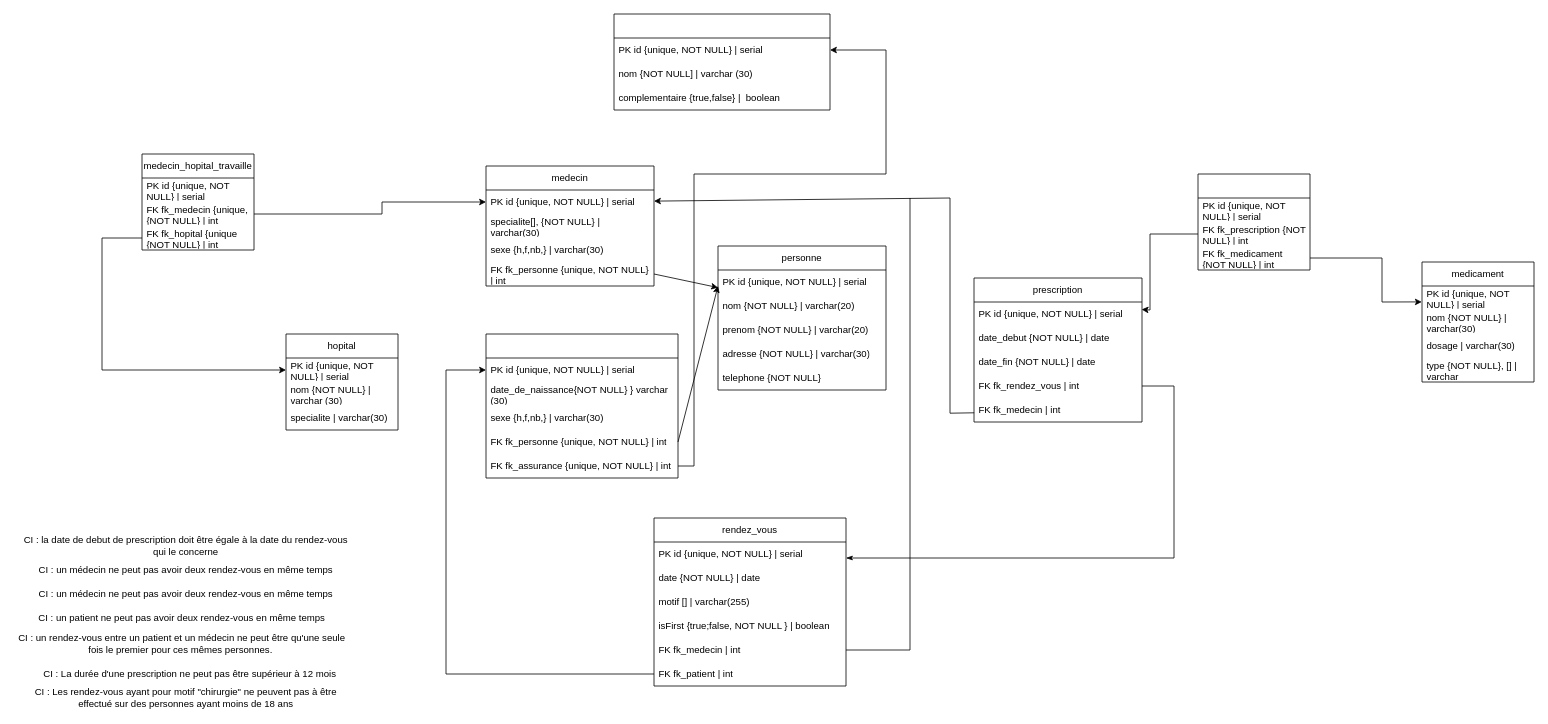
Image size: 1548x724. Some labels were removed from this diagram. Each missing label, with the box of its shape:
assurance: (613, 13, 830, 110)
patient: (485, 333, 678, 478)
prescription_medicament: (1197, 173, 1310, 270)
